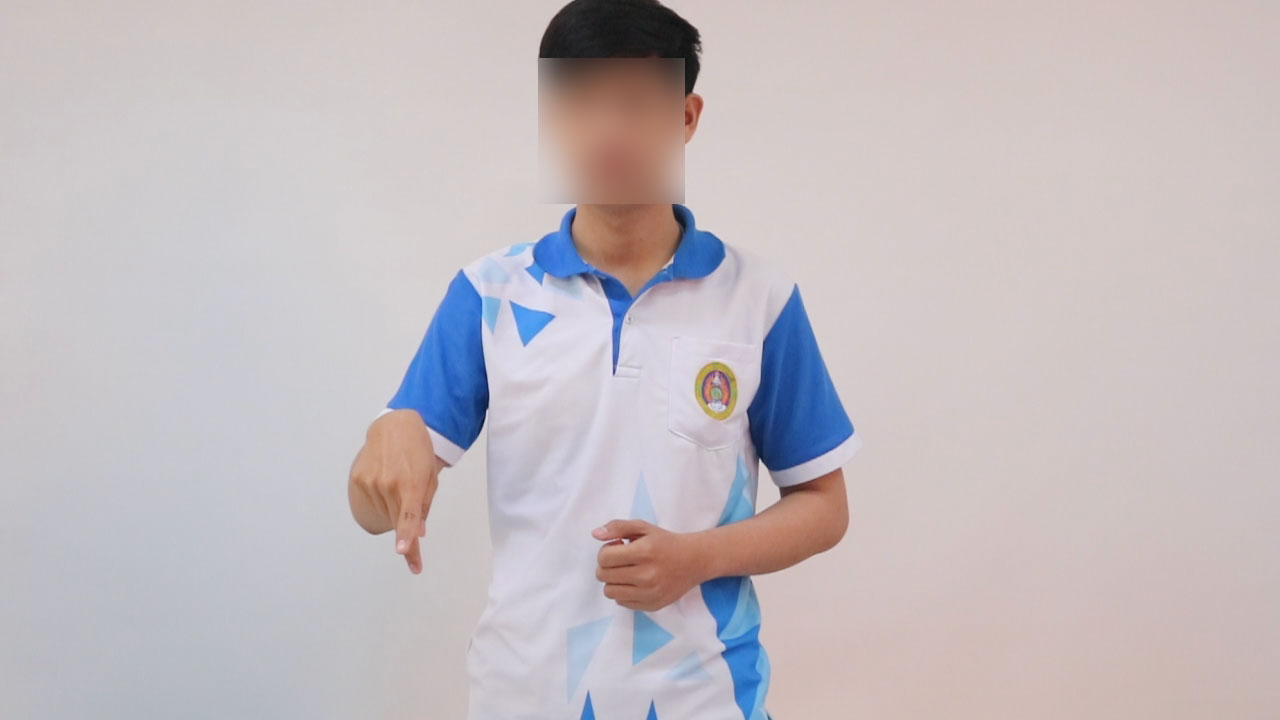por: (355, 402, 448, 577)
